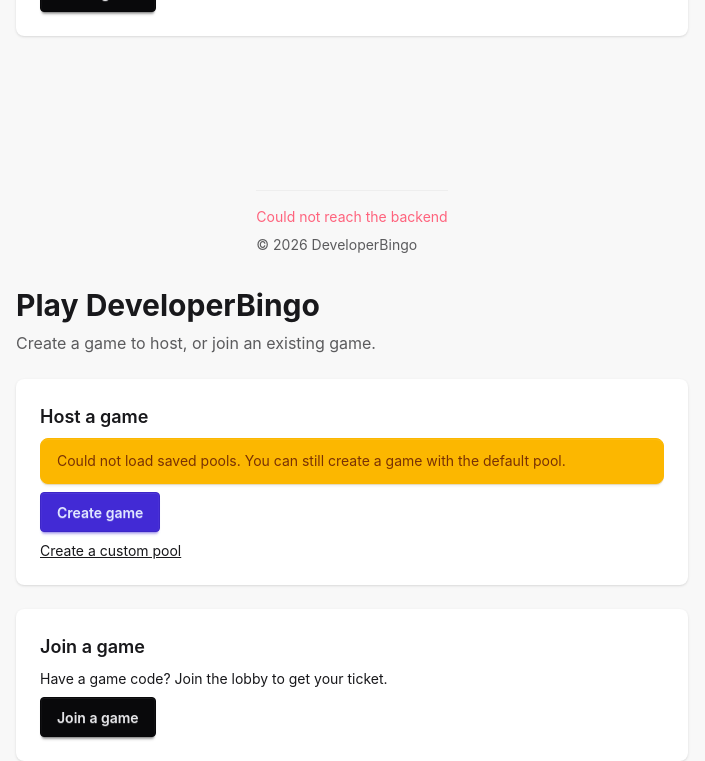
Test: HomeView › reports a failed pool list while still allowing a default-pool game
(page scrolled)
Check: the message "Could not load saved pools. You can still create a game with the default pool." is shown, box [40,438,664,484]
Click the button with test id "create-game" at x=100, y=512, box [40,492,160,532]
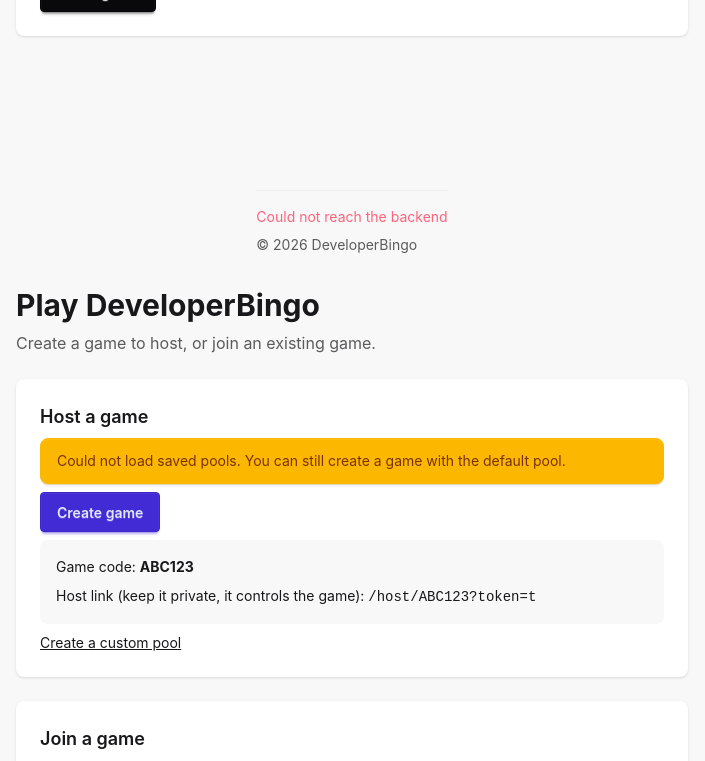
Check: the text "ABC123" is shown, box [140,558,194,575]
